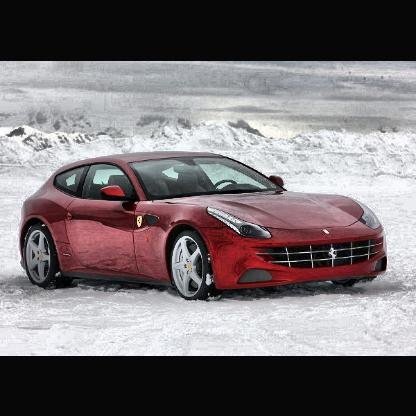Ferrari FF Coupe 2012: (20, 152, 389, 303)
